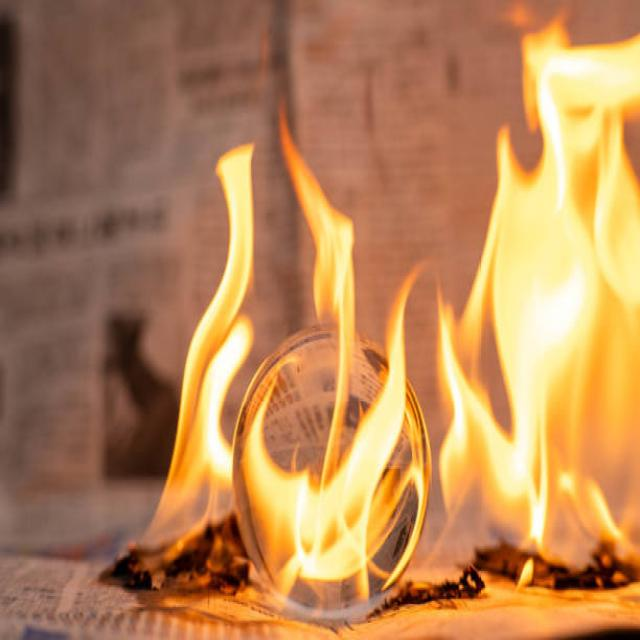fire: (437, 0, 640, 586), (241, 257, 431, 615), (137, 136, 257, 544), (277, 96, 356, 255)
